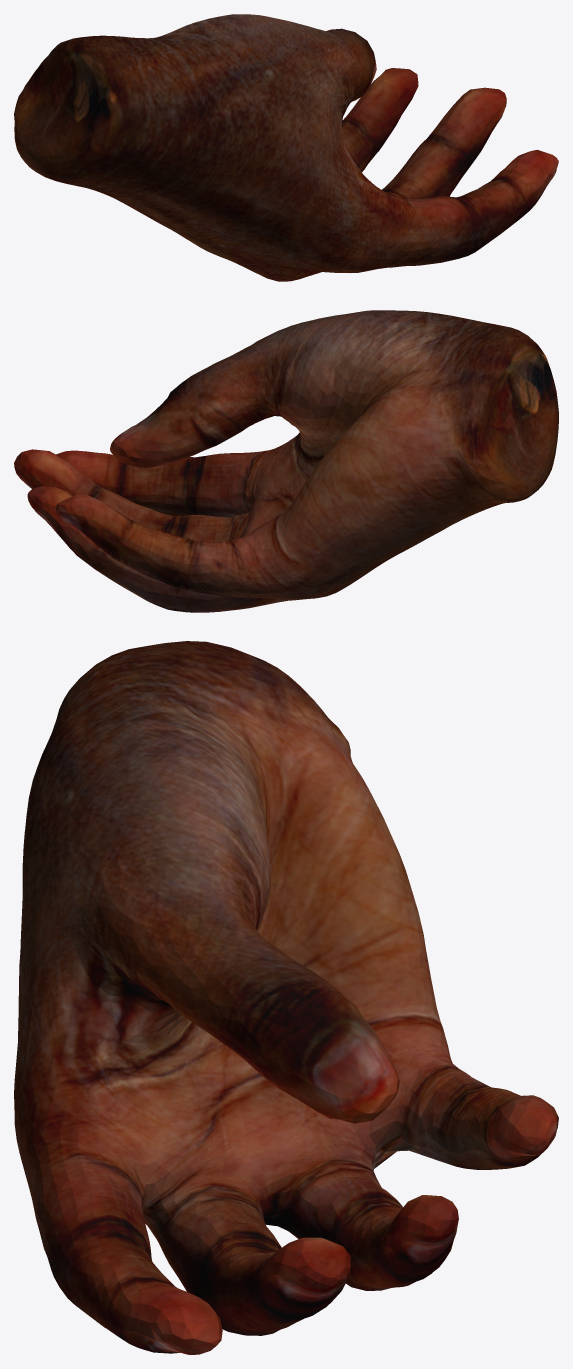
Rendered from skin.obj.
3 views of the same model, one above another, from view 1: azimuth 30°, elevation 25°; view 2: azimuth 150°, elevation 25°; view 3: azimuth 270°, elevation 25° (orthographic). The views are drawn at different scales.
Size of the model in its own units: 170 by 94.65 by 102.
1 material, 1 textured.
